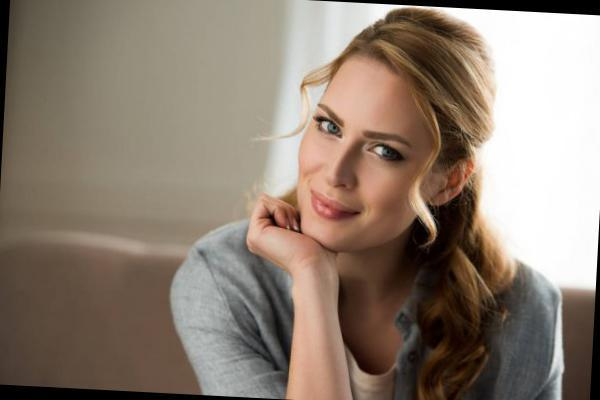Sober: (299, 66, 417, 242)
